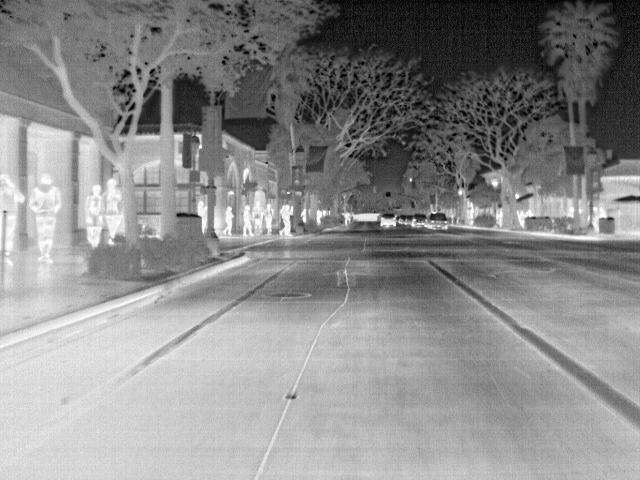car: (428, 212, 450, 233), (380, 212, 400, 228), (411, 214, 428, 230)
person: (31, 176, 62, 264), (2, 176, 24, 264), (102, 177, 124, 248), (84, 184, 106, 251), (279, 203, 295, 239), (220, 204, 236, 237), (241, 205, 256, 237), (262, 206, 277, 234)
